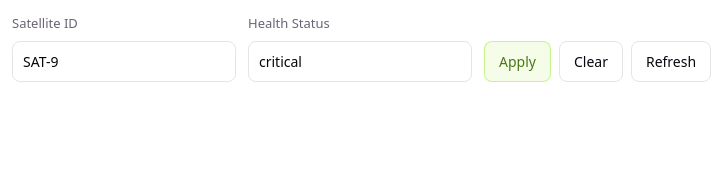
Test: <TelemetryFilters /> › Clear empties the inputs and applies empty filters
Click the button "Clear". click: (591, 62)
box: [559,41,623,82]
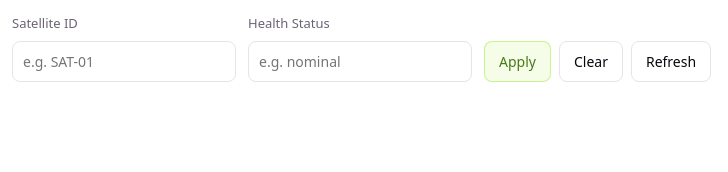
Check: the field labelled "Satellite ID" is empty, box [12,41,236,82]
Check: the field labelled "Health Status" is empty, box [248,41,472,82]
